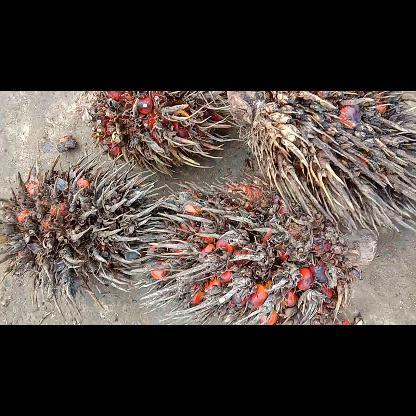Terlalu masak: (129, 170, 381, 324), (217, 90, 415, 238), (0, 152, 168, 322), (74, 91, 246, 179)
